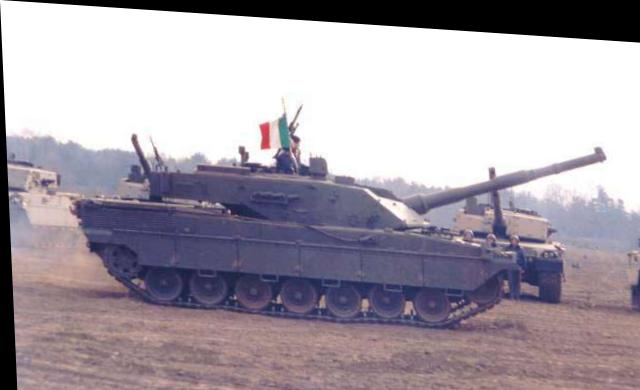other: (65, 124, 520, 330)
